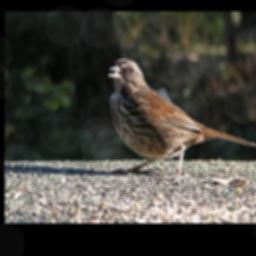Sparrow: (104, 54, 256, 181)
